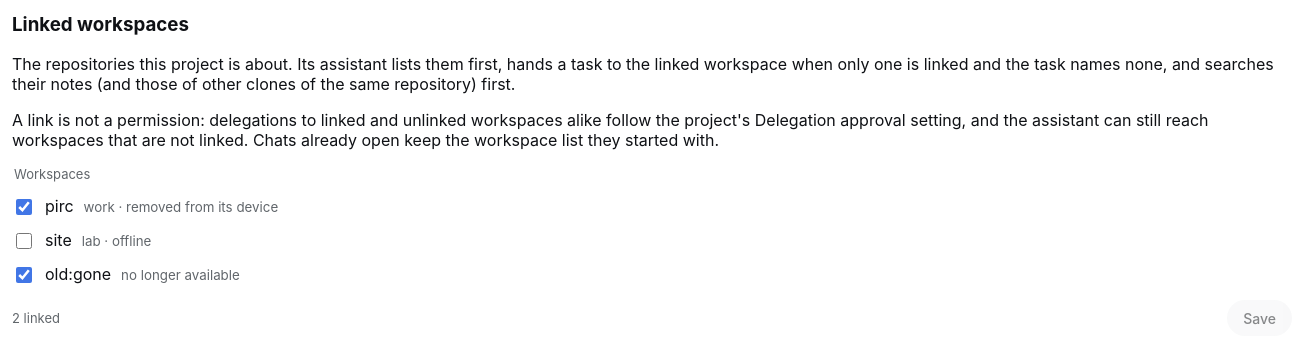
Test: keeps a link to a workspace that went away until it is unchecked
Click the checkbox labelled "old:gone no longer available" at (24, 275), box x1=16 y1=267 x2=32 y2=283
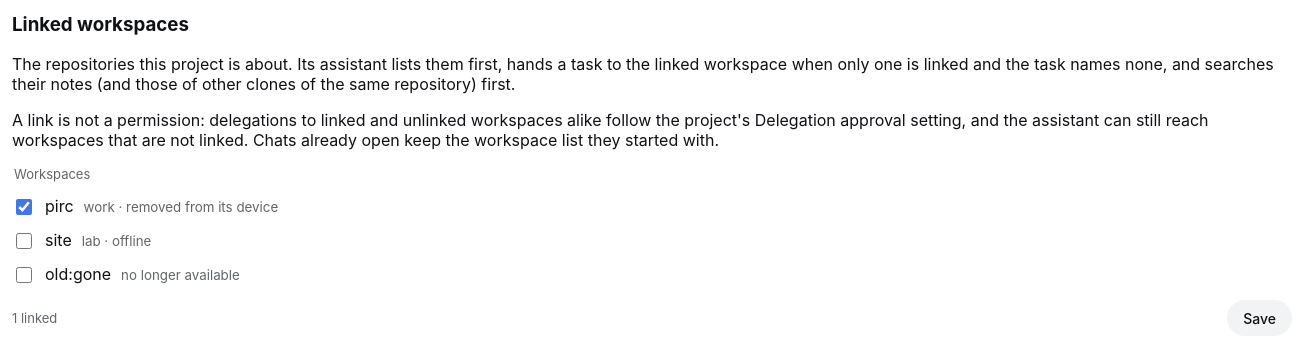
Submit the form, box x1=12 y1=166 x2=1292 y2=336
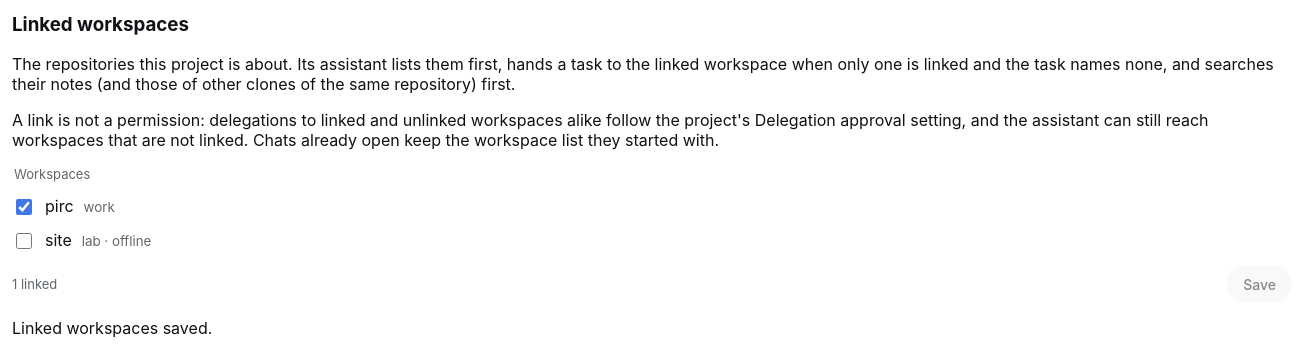
expect the text "old:gone" is gone: met
